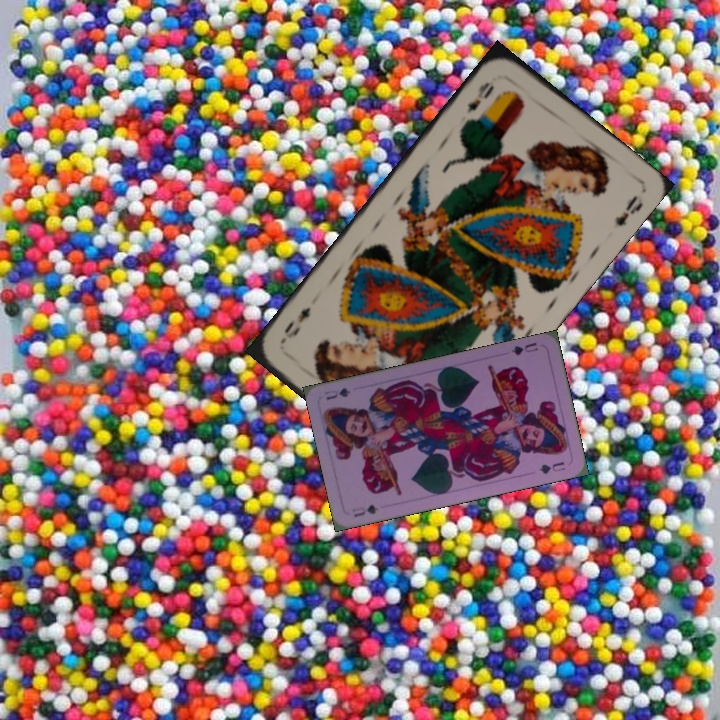EO: (462, 78, 497, 117)
GU: (507, 338, 540, 358), (348, 500, 381, 520)
